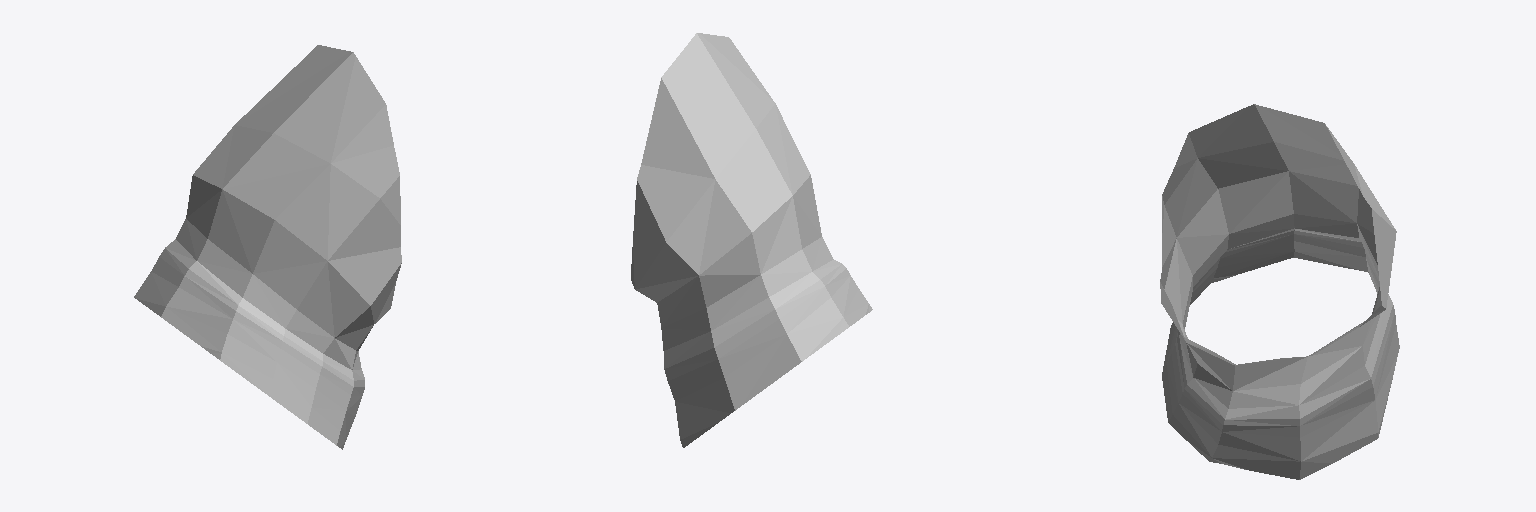
The model's file is Larm.obj.
The picture shows the model from 3 angles: view 1: azimuth 30°, elevation 25°; view 2: azimuth 150°, elevation 25°; view 3: azimuth 270°, elevation 25°; orthographic projection.
Visible parts, largest first — view 1: polySurface20 polySurface6 Mesh; view 2: polySurface20 polySurface6 Mesh; view 3: polySurface20 polySurface6 Mesh.
Part boxes in pixels (left/top/right/bottom): polySurface20 polySurface6 Mesh: left=134, top=45, right=401, bottom=449; polySurface20 polySurface6 Mesh: left=631, top=33, right=872, bottom=447; polySurface20 polySurface6 Mesh: left=1160, top=104, right=1399, bottom=479.
Size of the model in its own units: 0.3667 by 0.7662 by 0.4312.